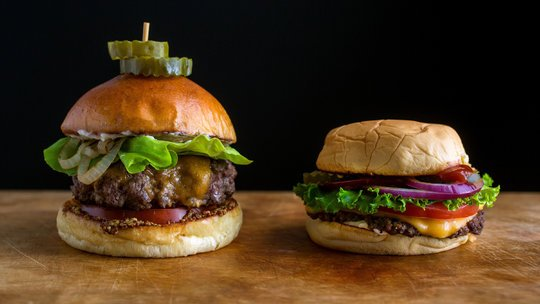hamburger: (41, 65, 257, 271), (292, 96, 498, 270)
